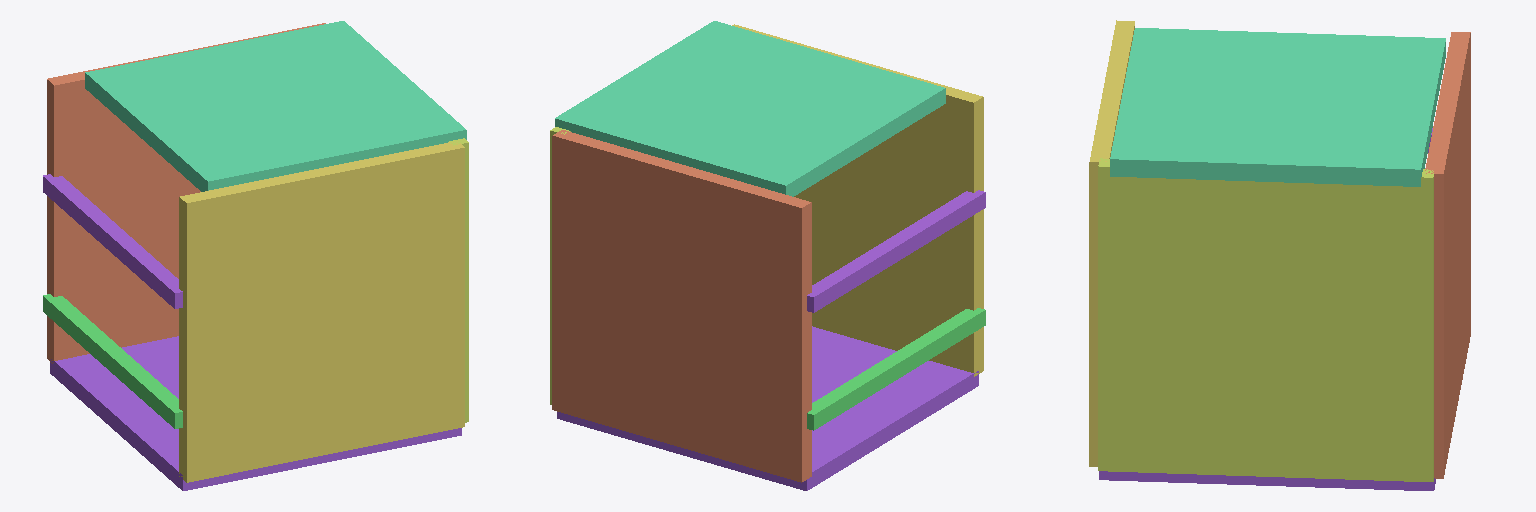
URDF robot description (robot):
<?xml version="1.0" encoding="utf-8"?>
<robot name="" version="1.0">
	<link name="_builder_root_link">
	</link>
	<link name="Cube1">
		<visual>
			<geometry>
				<box size="0.07 0.07 0.07"/>
			</geometry>
			<origin xyz="0.7444402652852363 -0.1411031622851692 0.2599367587044526" rpy="0.0 0.0 -0.07994997885362974"/>
			<material name="">
				<color rgba="0.45 0.8199499438516796 0.9 1.0"/>
			</material>
		</visual>
		<collision>
			<geometry>
				<box size="0.07 0.07 0.07"/>
			</geometry>
			<origin xyz="0.7444402652852363 -0.1411031622851692 0.2599367587044526" rpy="0.0 0.0 -0.07994997885362974"/>
		</collision>
	</link>
	<link name="base">
		<visual>
			<geometry>
				<box size="0.7 0.7 0.04"/>
			</geometry>
			<origin xyz="0.7444402652852363 -0.1411031622851692 0.1799367587044526" rpy="0.0 0.0 -0.07994997885362974"/>
			<material name="">
				<color rgba="0.6824567093281075 0.45 0.9 1.0"/>
			</material>
		</visual>
		<collision>
			<geometry>
				<box size="0.7 0.7 0.04"/>
			</geometry>
			<origin xyz="0.7444402652852363 -0.1411031622851692 0.1799367587044526" rpy="0.0 0.0 -0.07994997885362974"/>
		</collision>
	</link>
	<link name="side_back">
		<visual>
			<geometry>
				<box size="0.04 0.7 0.7"/>
			</geometry>
			<origin xyz="1.093322261153294 -0.1690558537319761 0.5399367587044527" rpy="0.0 0.0 -0.07994997885362974"/>
			<material name="">
				<color rgba="0.8274816513061524 0.9 0.45 1.0"/>
			</material>
		</visual>
		<collision>
			<geometry>
				<box size="0.04 0.7 0.7"/>
			</geometry>
			<origin xyz="1.093322261153294 -0.1690558537319761 0.5399367587044527" rpy="0.0 0.0 -0.07994997885362974"/>
		</collision>
	</link>
	<link name="side_cap">
		<visual>
			<geometry>
				<box size="0.65 0.65 0.04"/>
			</geometry>
			<origin xyz="0.7942805504092445 -0.1450964039204273 0.8899367587044525" rpy="0.0 0.0 -0.07994997885362974"/>
			<material name="">
				<color rgba="0.45 0.9 0.7151290718000383 1.0"/>
			</material>
		</visual>
		<collision>
			<geometry>
				<box size="0.65 0.65 0.04"/>
			</geometry>
			<origin xyz="0.7942805504092445 -0.1450964039204273 0.8899367587044525" rpy="0.0 0.0 -0.07994997885362974"/>
		</collision>
	</link>
	<link name="side_frontA">
		<visual>
			<geometry>
				<box size="0.04 0.7 0.04"/>
			</geometry>
			<origin xyz="0.3955582694171783 -0.1131504708383623 0.3399367587044526" rpy="0.0 0.0 -0.07994997885362974"/>
			<material name="">
				<color rgba="0.45 0.9 0.5160225099418313 1.0"/>
			</material>
		</visual>
		<collision>
			<geometry>
				<box size="0.04 0.7 0.04"/>
			</geometry>
			<origin xyz="0.3955582694171783 -0.1131504708383623 0.3399367587044526" rpy="0.0 0.0 -0.07994997885362974"/>
		</collision>
	</link>
	<link name="side_frontB">
		<visual>
			<geometry>
				<box size="0.04 0.7 0.04"/>
			</geometry>
			<origin xyz="0.3955582694171783 -0.1131504708383623 0.6399367587044525" rpy="0.0 0.0 -0.07994997885362974"/>
			<material name="">
				<color rgba="0.7026262155734003 0.45 0.9 1.0"/>
			</material>
		</visual>
		<collision>
			<geometry>
				<box size="0.04 0.7 0.04"/>
			</geometry>
			<origin xyz="0.3955582694171783 -0.1131504708383623 0.6399367587044525" rpy="0.0 0.0 -0.07994997885362974"/>
		</collision>
	</link>
	<link name="side_left">
		<visual>
			<geometry>
				<box size="0.7 0.04 0.7"/>
			</geometry>
			<origin xyz="0.7164875738384294 -0.4899851581532272 0.5399367587044527" rpy="0.0 0.0 -0.07994997885362974"/>
			<material name="">
				<color rgba="0.9 0.8522551299305633 0.45 1.0"/>
			</material>
		</visual>
		<collision>
			<geometry>
				<box size="0.7 0.04 0.7"/>
			</geometry>
			<origin xyz="0.7164875738384294 -0.4899851581532272 0.5399367587044527" rpy="0.0 0.0 -0.07994997885362974"/>
		</collision>
	</link>
	<link name="side_right">
		<visual>
			<geometry>
				<box size="0.7 0.04 0.7"/>
			</geometry>
			<origin xyz="0.7723929567320432 0.2077788335828888 0.5399367587044527" rpy="0.0 0.0 -0.07994997885362974"/>
			<material name="">
				<color rgba="0.9 0.5783578998874873 0.45 1.0"/>
			</material>
		</visual>
		<collision>
			<geometry>
				<box size="0.7 0.04 0.7"/>
			</geometry>
			<origin xyz="0.7723929567320432 0.2077788335828888 0.5399367587044527" rpy="0.0 0.0 -0.07994997885362974"/>
		</collision>
	</link>
	<joint name="Cube1_joint" type="fixed">
		<parent link="_builder_root_link"/>
		<child link="Cube1"/>
	</joint>
	<joint name="base_joint" type="fixed">
		<parent link="_builder_root_link"/>
		<child link="base"/>
	</joint>
	<joint name="side_back_joint" type="fixed">
		<parent link="_builder_root_link"/>
		<child link="side_back"/>
	</joint>
	<joint name="side_cap_joint" type="fixed">
		<parent link="_builder_root_link"/>
		<child link="side_cap"/>
	</joint>
	<joint name="side_frontA_joint" type="fixed">
		<parent link="_builder_root_link"/>
		<child link="side_frontA"/>
	</joint>
	<joint name="side_frontB_joint" type="fixed">
		<parent link="_builder_root_link"/>
		<child link="side_frontB"/>
	</joint>
	<joint name="side_left_joint" type="fixed">
		<parent link="_builder_root_link"/>
		<child link="side_left"/>
	</joint>
	<joint name="side_right_joint" type="fixed">
		<parent link="_builder_root_link"/>
		<child link="side_right"/>
	</joint>
</robot>

--- Render facts (derived) ---
Views: 3 orthographic renders of the robot side by side, from view 1: azimuth 30°, elevation 25°; view 2: azimuth 150°, elevation 25°; view 3: azimuth 270°, elevation 25°.
Robot: robot — 9 links, 8 joints (8 fixed); root link _builder_root_link; default pose: all joints at 0.
Links seen in each view (by area): view 1: side_left, side_cap, side_right, base, side_frontA, side_frontB, side_back; view 2: side_right, side_cap, side_left, base, side_frontB, side_frontA, side_back; view 3: side_back, side_cap, side_right, side_left, base.
Link boxes in pixels (x1=…): side_left: x1=179, y1=141, x2=464, y2=482; side_cap: x1=85, y1=21, x2=466, y2=191; side_right: x1=47, y1=23, x2=325, y2=363; base: x1=50, y1=336, x2=461, y2=490; side_frontA: x1=43, y1=294, x2=182, y2=428; side_frontB: x1=43, y1=174, x2=182, y2=308; side_back: x1=449, y1=138, x2=468, y2=422; side_right: x1=552, y1=130, x2=811, y2=482; side_cap: x1=555, y1=21, x2=945, y2=196; side_left: x1=732, y1=24, x2=983, y2=376; base: x1=557, y1=326, x2=978, y2=490; side_frontB: x1=807, y1=190, x2=985, y2=312; side_frontA: x1=807, y1=308, x2=985, y2=430; side_back: x1=550, y1=127, x2=570, y2=404; side_back: x1=1098, y1=158, x2=1433, y2=481; side_cap: x1=1110, y1=28, x2=1445, y2=186; side_right: x1=1425, y1=32, x2=1470, y2=478; side_left: x1=1089, y1=20, x2=1134, y2=466; base: x1=1099, y1=471, x2=1435, y2=490.
Bounding box of the posed robot: 0.7965 × 0.7935 × 0.75 m (x, y, z).
Geometry: primitives only (box / cylinder / sphere), no mesh files.